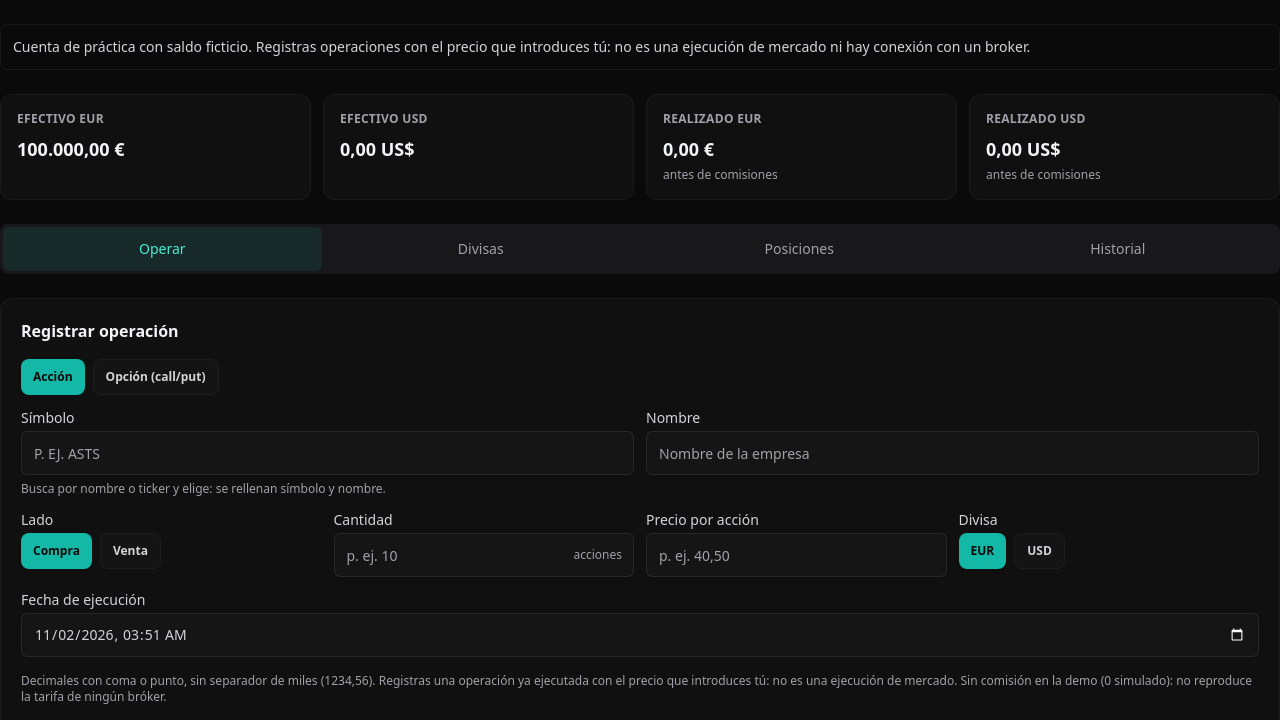
Test: ManualDemoPanel (cuenta demo manual) › el historial pinta fills y rechazos, y un rechazo nunca parece un fill
Press the mouse on the tab "Historial" at (1118, 249), box [958,227,1277,271]
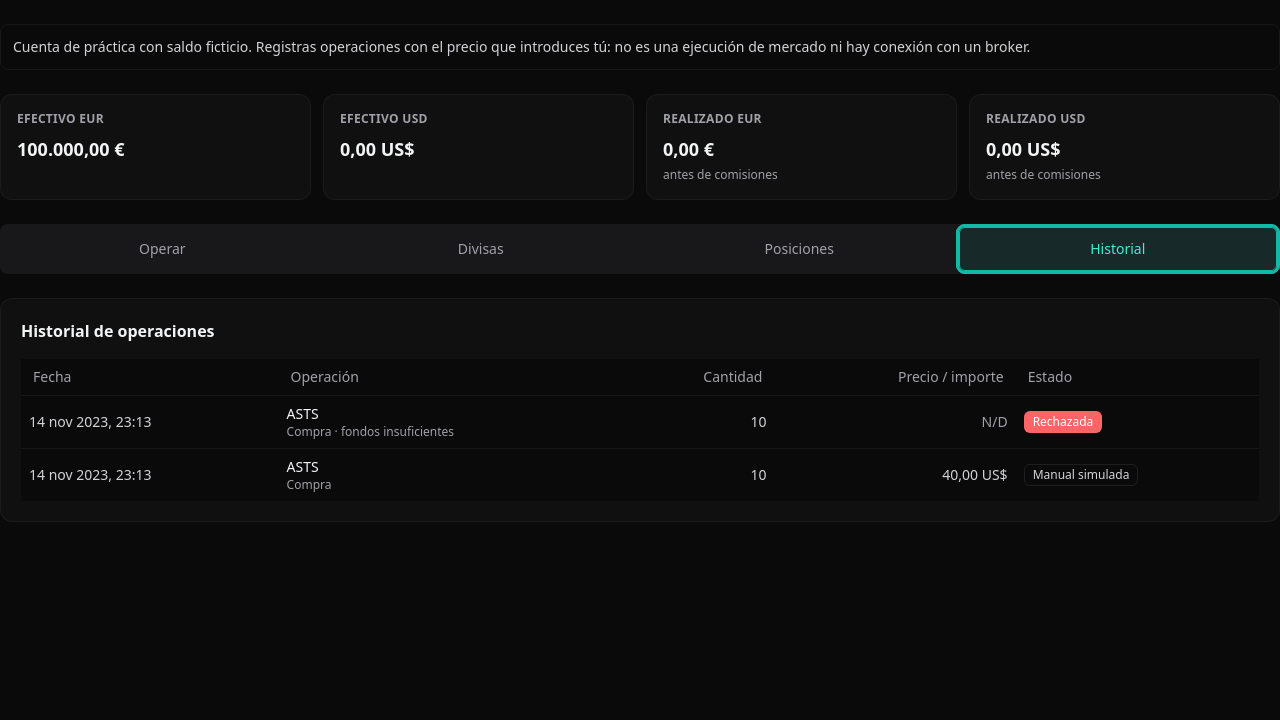
expect the text "Manual simulada" is shown: met, box [1024,464,1138,486]
expect the text "Rechazada" is shown: met, box [1024,411,1102,433]
expect the text "Compra · fondos insuficientes" is shown: met, box [287,423,454,440]
